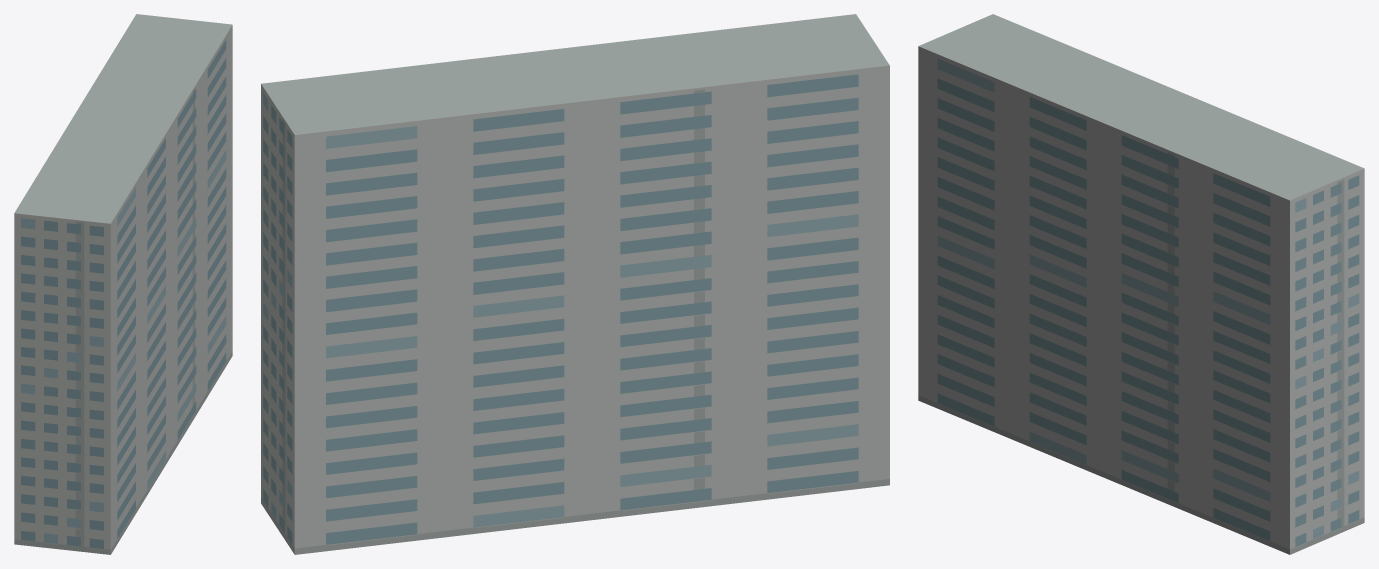
File: residential-2f5b1306-e200-457e-ba75-b3dd5bfffb2b.glb
3 views of the same model, side by side, from view 1: azimuth 30°, elevation 25°; view 2: azimuth 150°, elevation 25°; view 3: azimuth 270°, elevation 25° (orthographic). The views are drawn at different scales.
Parts seen in each view (by area): view 1: residential-2f5b1306-e200-457e-ba75-b3dd5bfffb2b.tmp; view 2: residential-2f5b1306-e200-457e-ba75-b3dd5bfffb2b.tmp; view 3: residential-2f5b1306-e200-457e-ba75-b3dd5bfffb2b.tmp.
Boxes of the visible parts, x1,y1,x2,y2 form: residential-2f5b1306-e200-457e-ba75-b3dd5bfffb2b.tmp: (14, 14, 232, 554); residential-2f5b1306-e200-457e-ba75-b3dd5bfffb2b.tmp: (261, 14, 889, 554); residential-2f5b1306-e200-457e-ba75-b3dd5bfffb2b.tmp: (918, 14, 1364, 554).
Bounding box in the file's own units: 54.2 × 48 × 54.81.
